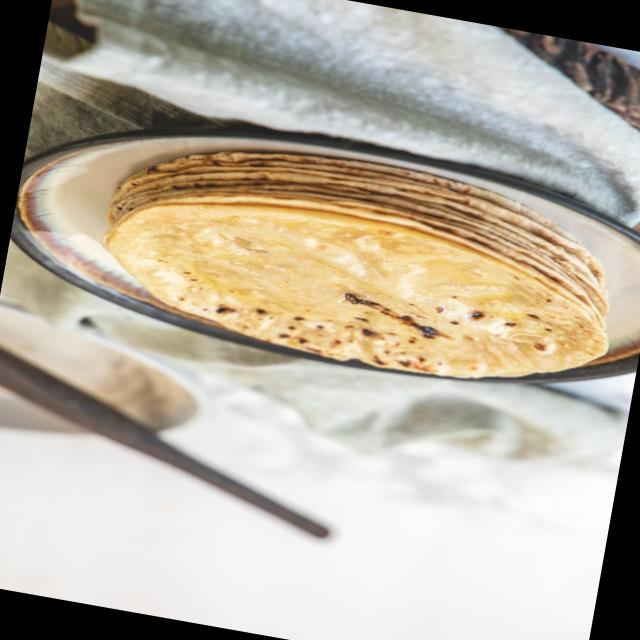roti: (103, 152, 615, 381)
